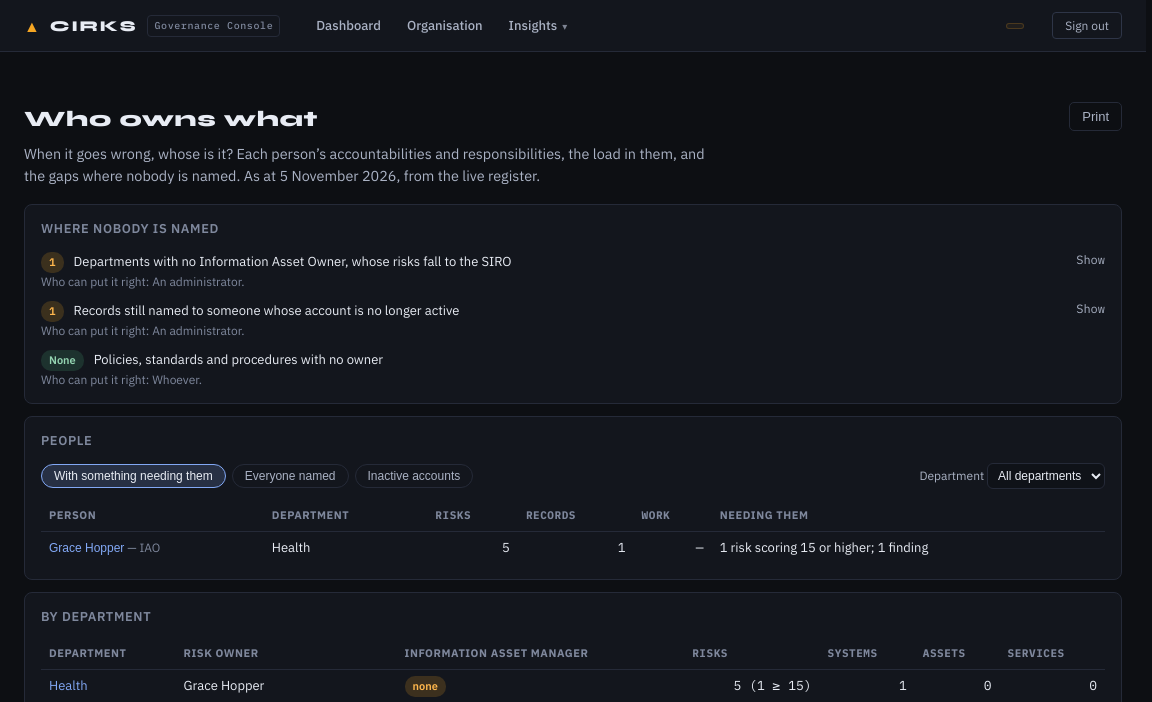
Test: Who owns what › the gaps link to the record and name who has left
The image size is (1152, 702).
Expected: the text "whose risks fall to the SIRO" is shown, [74,253,512,270]
Click the 2nd button "Show" at (1091, 308), box [1076,301,1105,316]
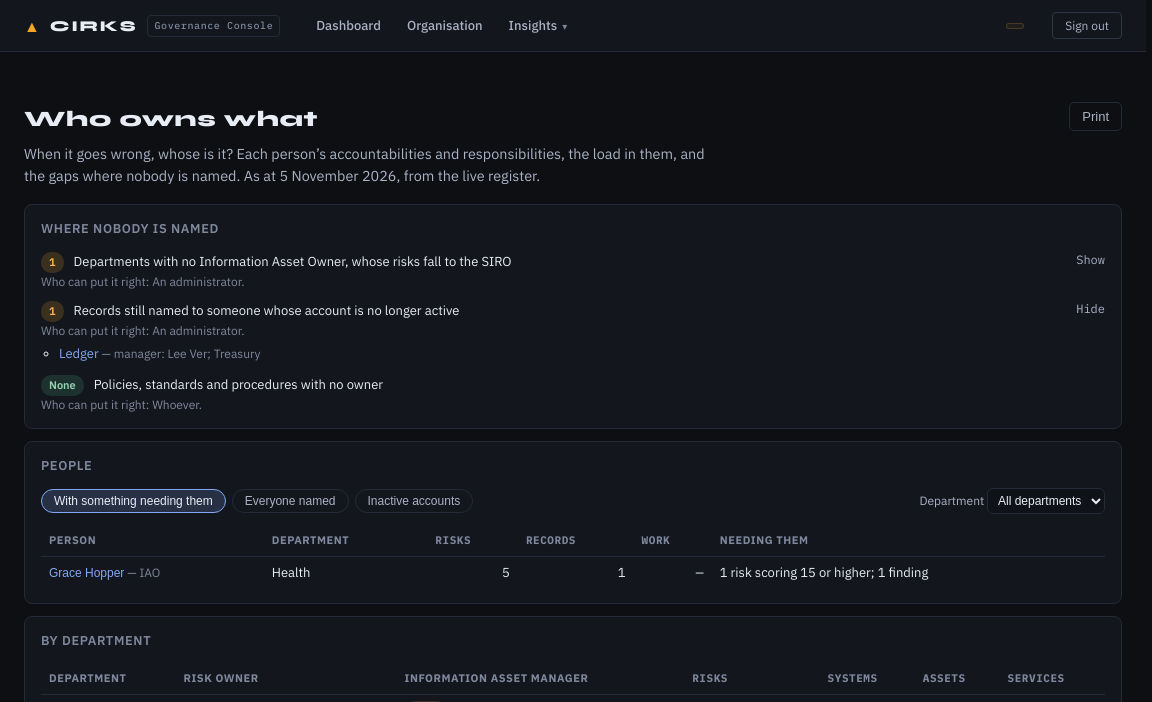
Result: the text "— manager: Lee Ver; Treasury" is shown at [99,346,261,361]
